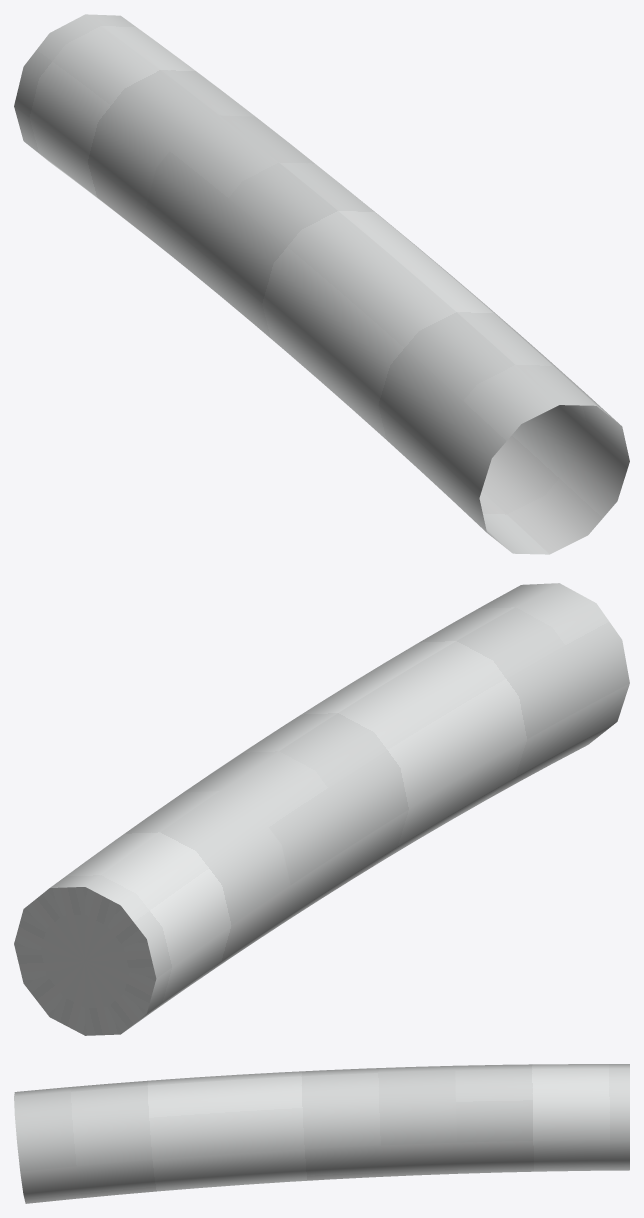
File: luminairearm_truss12ft_c8.obj
3 renders of one model, top to bottom at view 1: azimuth 30°, elevation 25°; view 2: azimuth 150°, elevation 25°; view 3: azimuth 270°, elevation 25°, orthographic. The views are drawn at different scales.
Parts seen in each view (by area): view 1: luminairearm_truss12ft_c8; view 2: luminairearm_truss12ft_c8; view 3: luminairearm_truss12ft_c8.
Boxes of the visible parts, x1,y1,x2,y2 form: luminairearm_truss12ft_c8: (14, 14, 629, 554); luminairearm_truss12ft_c8: (14, 583, 629, 1035); luminairearm_truss12ft_c8: (14, 1064, 629, 1203).
Bounding box in the file's own units: 0.185 × 0.235 × 1.01.
